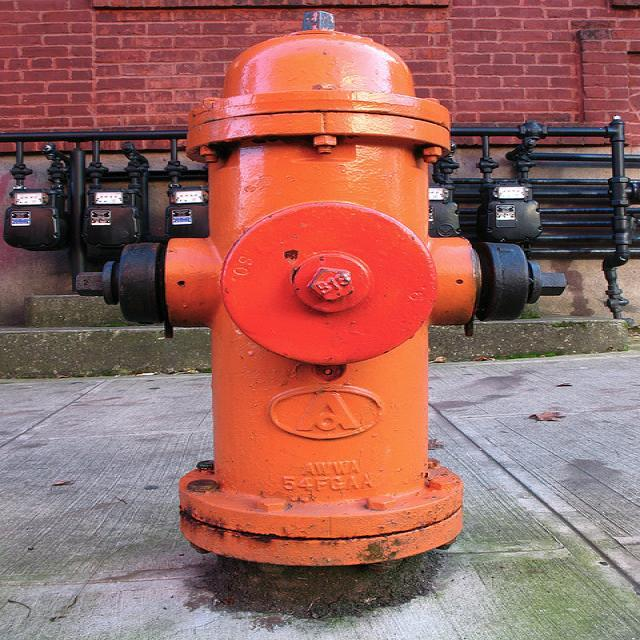fire_hydrant: (67, 8, 566, 569)
